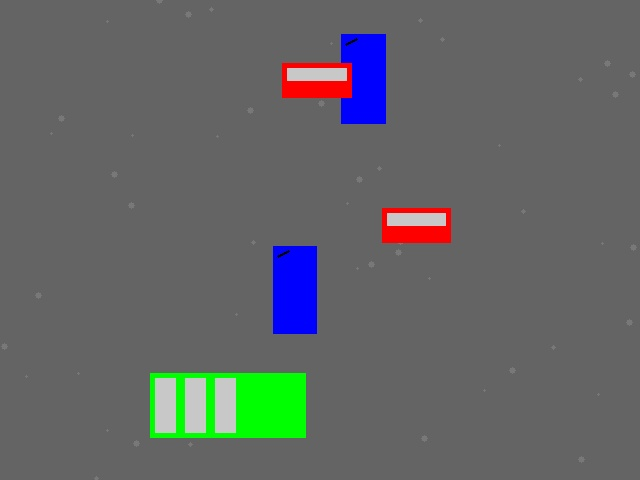bus: (150, 373, 305, 437)
car: (282, 63, 351, 97), (382, 208, 450, 242)
motorcycle: (341, 34, 385, 123), (273, 246, 316, 333)
